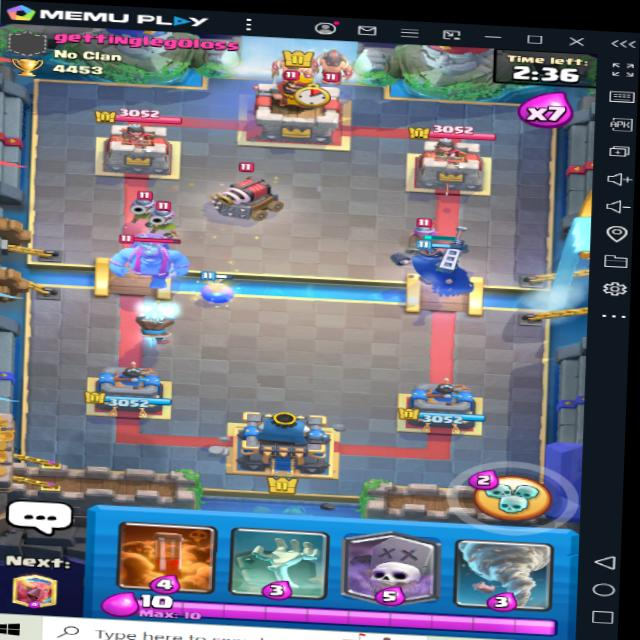electro-barbarians: (312, 45, 359, 88), (273, 49, 320, 87)
goblin-giant: (108, 225, 191, 288)
musketeer: (401, 217, 457, 262), (122, 184, 181, 225), (148, 195, 197, 239)
sparky: (209, 163, 296, 225)
